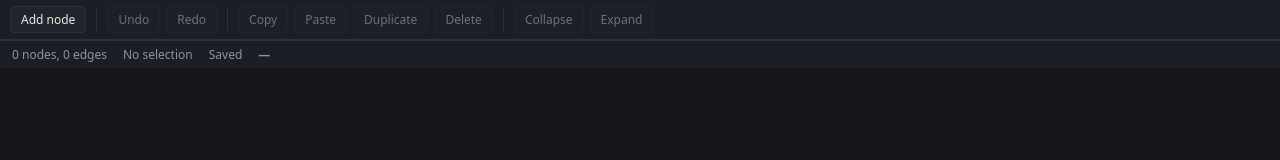
Test: EditorToolbar + EditorStatusBar › Add node inserts a node and the status bar reflects the count
This screenshot has width=1280, height=160.
Expected: the text with test id "status-counts" shows "0 nodes", left=12, top=46, right=107, bottom=63
Click the button "Add node": (48, 20) left=10, top=6, right=86, bottom=33
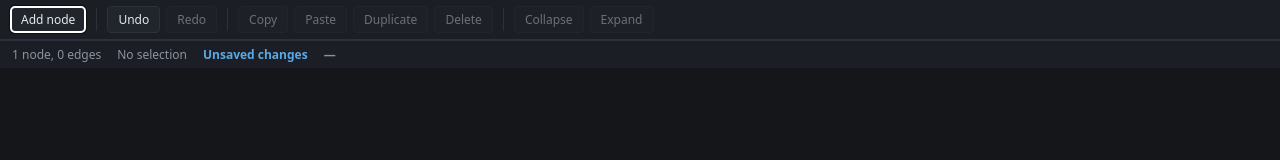
Result: the text with test id "status-counts" shows "1 node," at left=12, top=46, right=101, bottom=63
Result: the text with test id "status-dirty" reads "Unsaved changes" at left=203, top=46, right=308, bottom=63
